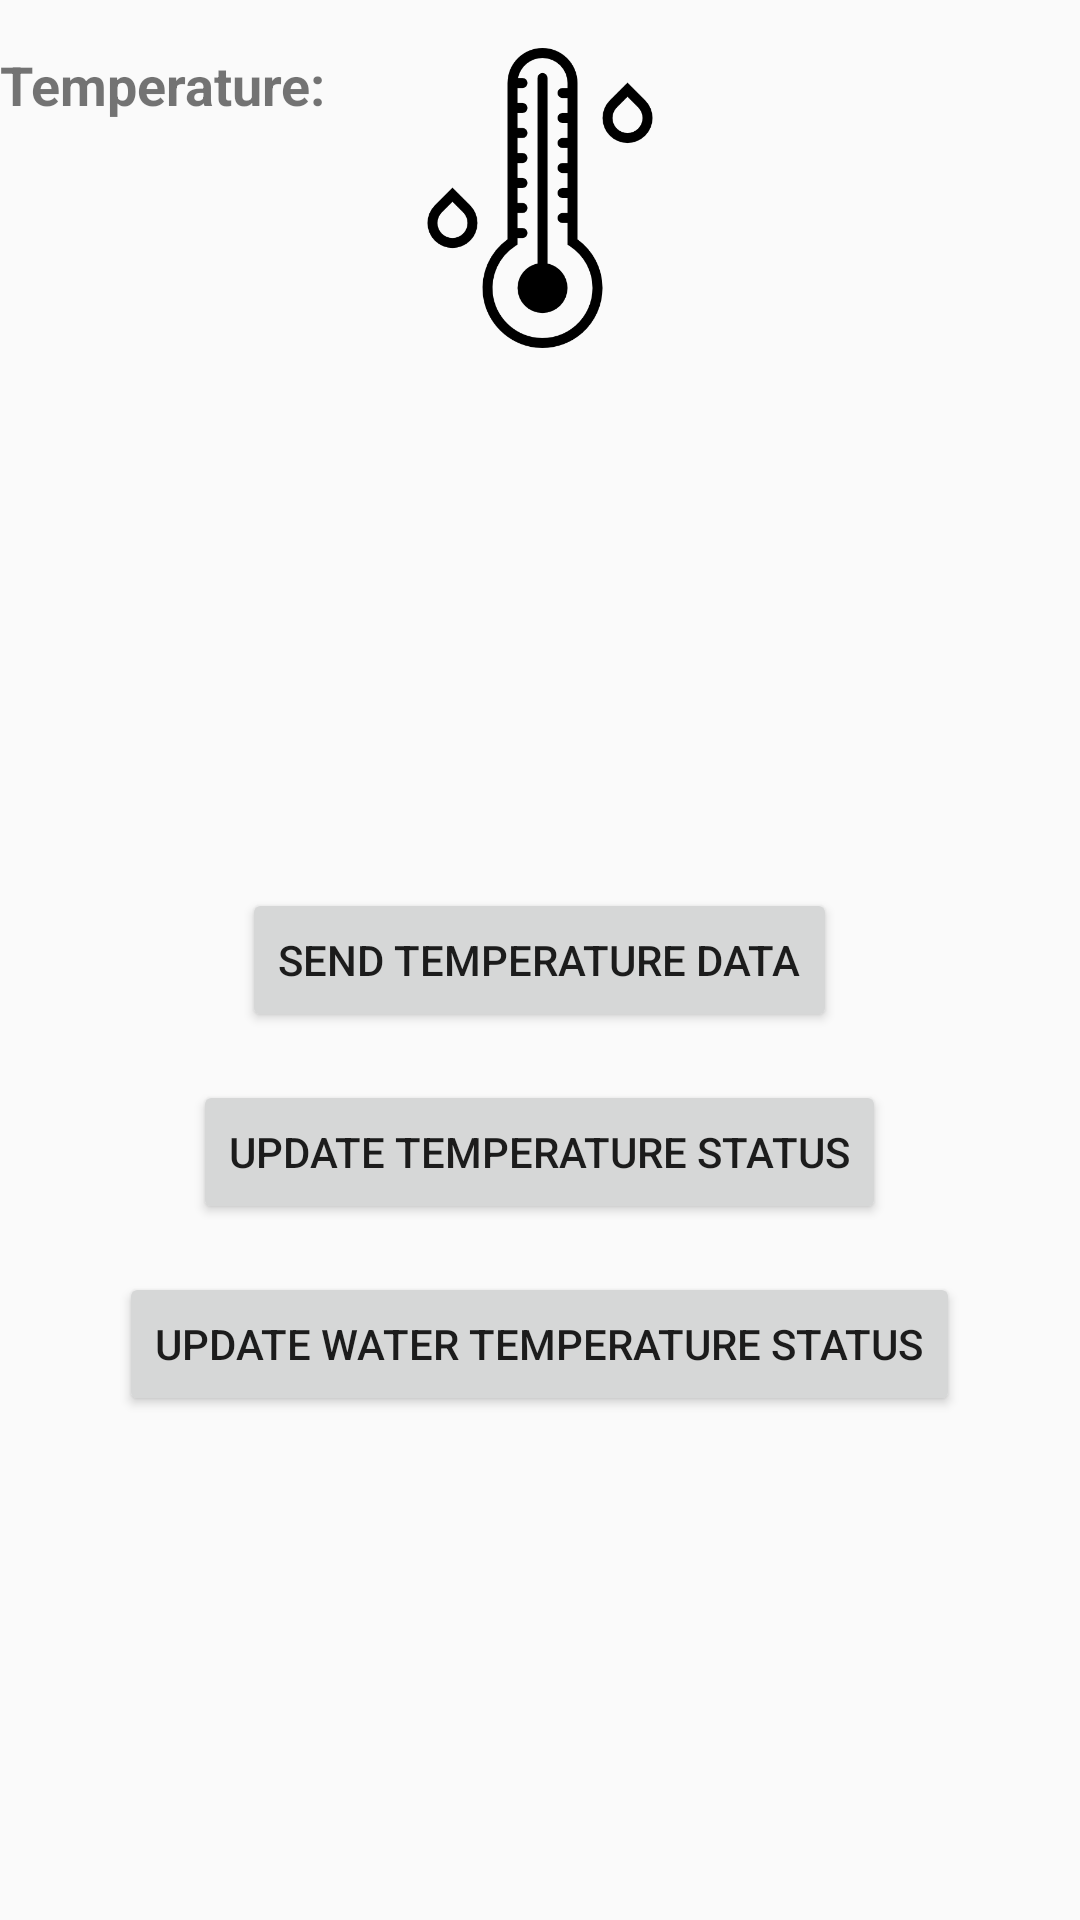

Named icons in this screenshot (1080w x 1920h) and their bounding boxes, (x1, y1, x2, y2):
Weather Icon: (427, 48, 653, 348)
